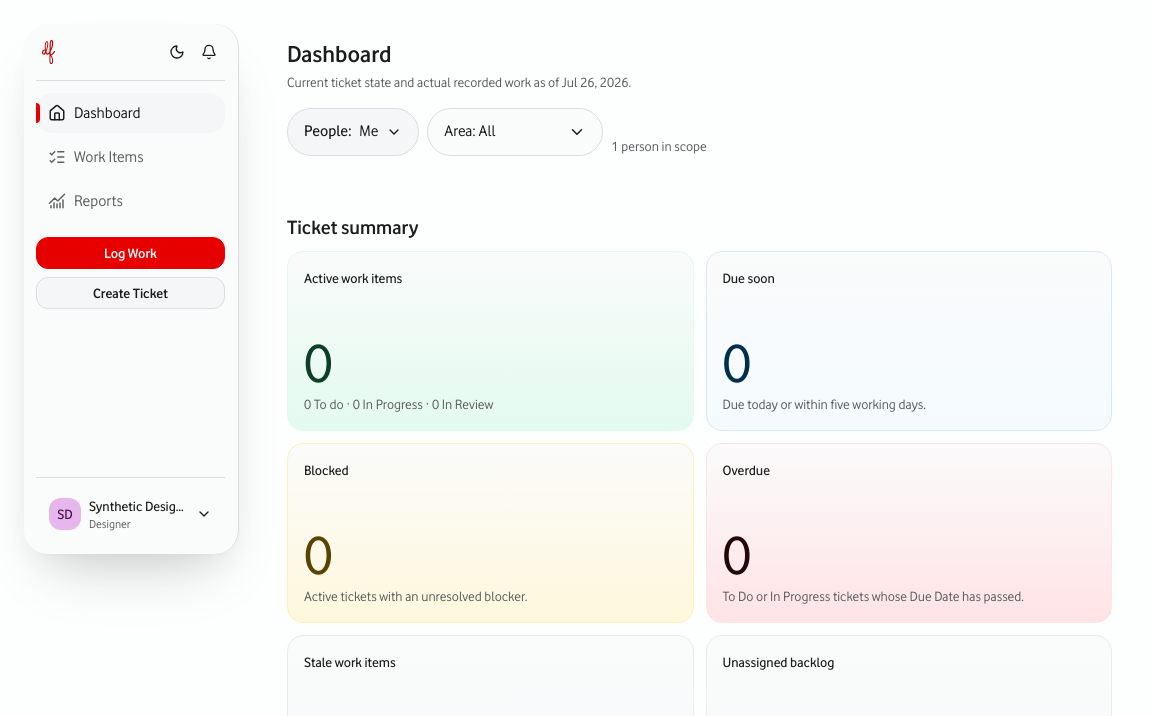
Test: authenticated application routing › keeps the shell available when local sign-out fails
This screenshot has width=1152, height=716.
Expected: the text "Synthetic Designer" is shown, x1=89 y1=496 x2=188 y2=516
Click the button with aria-label "Open profile menu for Synthetic Designer": (130, 514) x1=36 y1=486 x2=225 y2=542
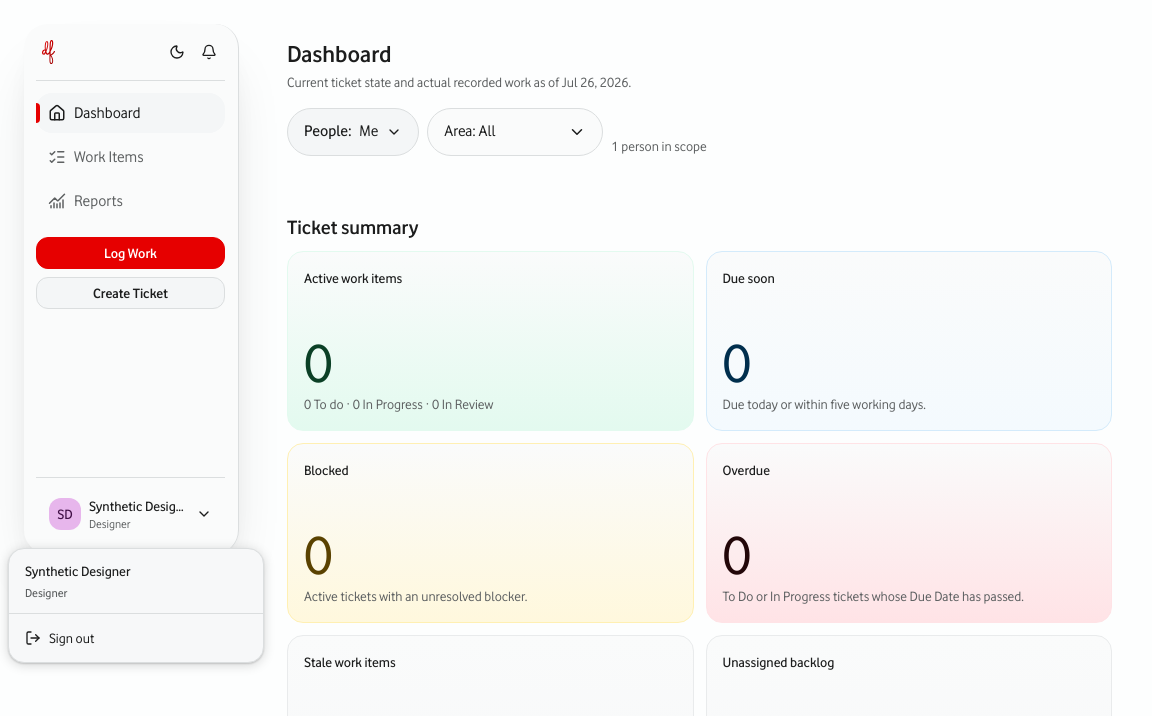
Click the menu item "Sign out": (60, 638) x1=25 y1=630 x2=94 y2=646
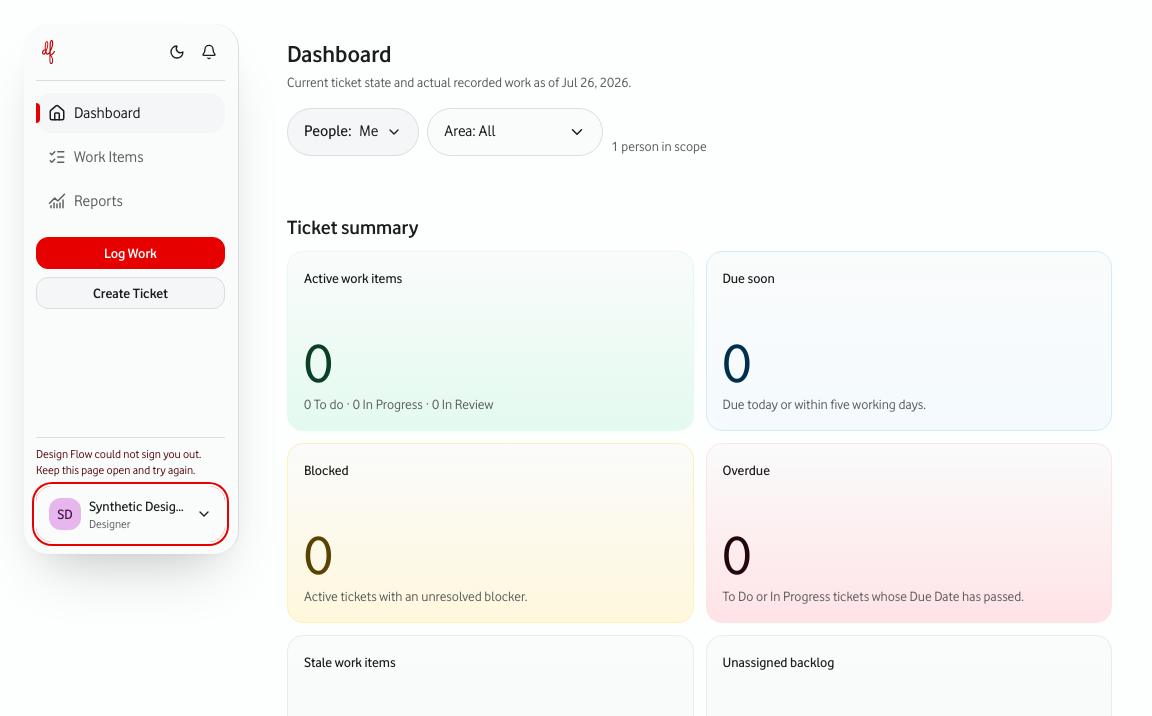
Expected: the navigation bar is shown, x1=36 y1=93 x2=225 y2=221
Expected: the text "Design Flow could not sign you out. Keep this page open and try again." is shown, x1=36 y1=446 x2=225 y2=478
